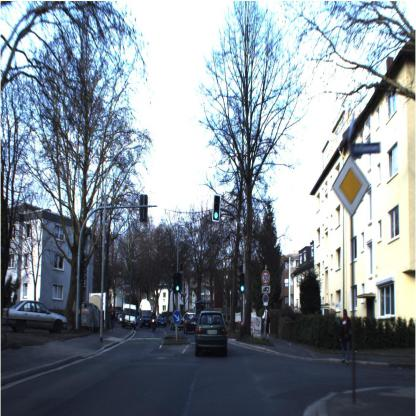mandatory: (170, 308, 182, 326)
other: (328, 149, 372, 222)
prohibitory: (259, 265, 271, 288)
